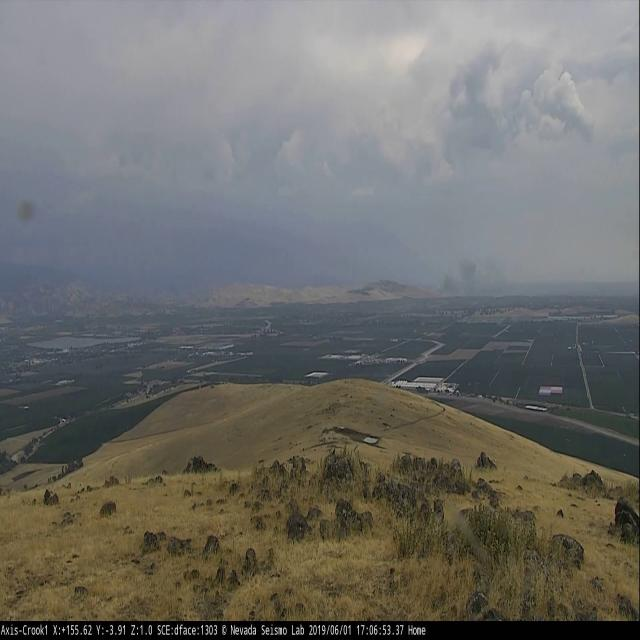smoke: (420, 250, 509, 298)
